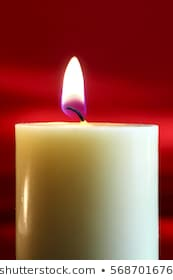Fire: (59, 54, 93, 120)
